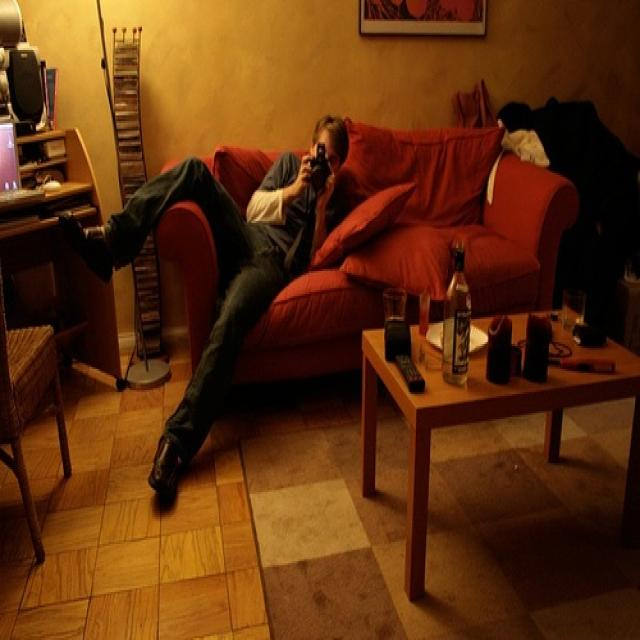bottle: (440, 238, 475, 386)
chair: (1, 275, 73, 563)
sofa: (160, 115, 579, 398)
